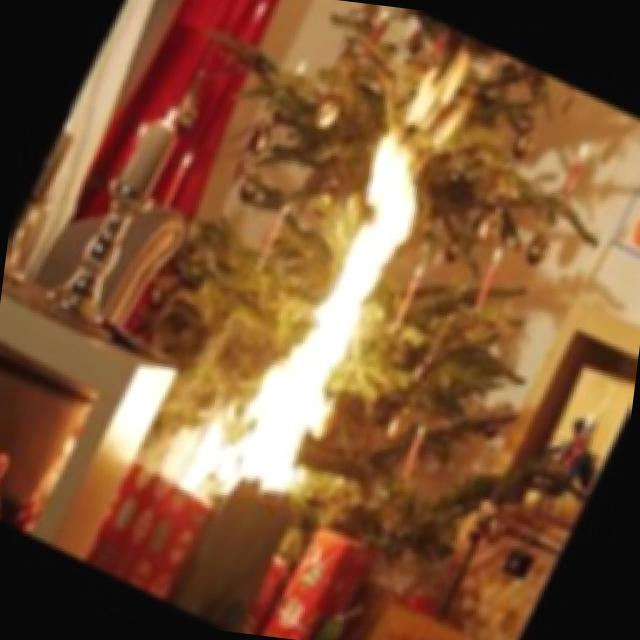fire: (133, 21, 502, 560)
